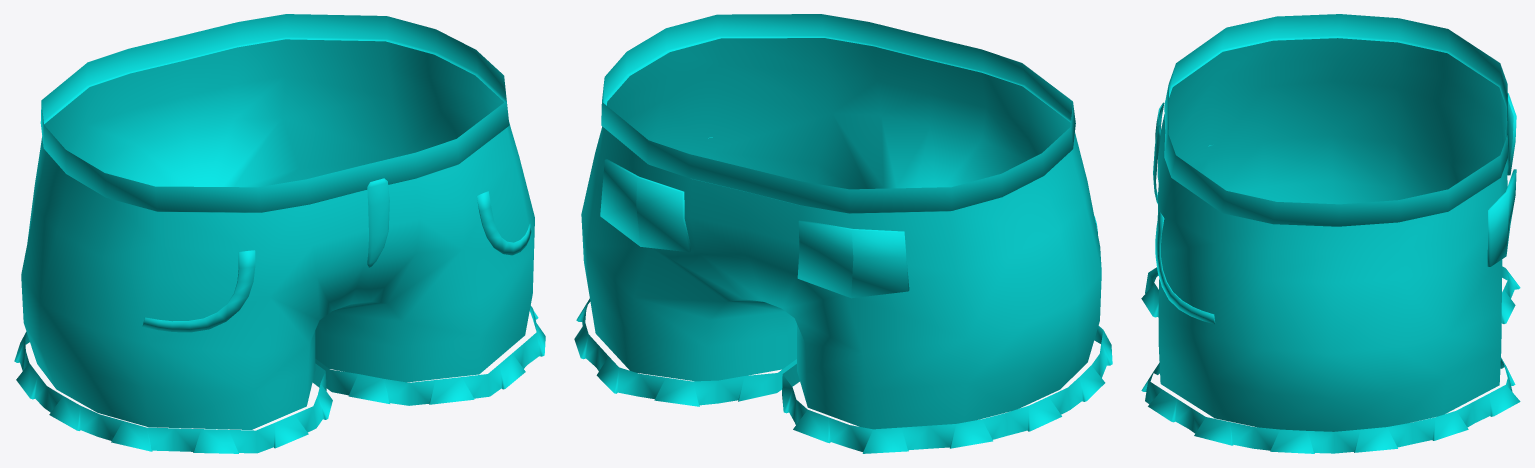
3 renders of one model, left to right at view 1: azimuth 30°, elevation 25°; view 2: azimuth 150°, elevation 25°; view 3: azimuth 270°, elevation 25°, orthographic. The views are drawn at different scales.
Parts seen in each view (by area): view 1: P_C; view 2: P_C; view 3: P_C.
Boxes of the visible parts, x1,y1,x2,y2 form: P_C: (14,14,545,453); P_C: (574,14,1112,453); P_C: (1141,14,1520,453).
Bounding box in the file's own units: 117 × 59.14 × 85.42.
